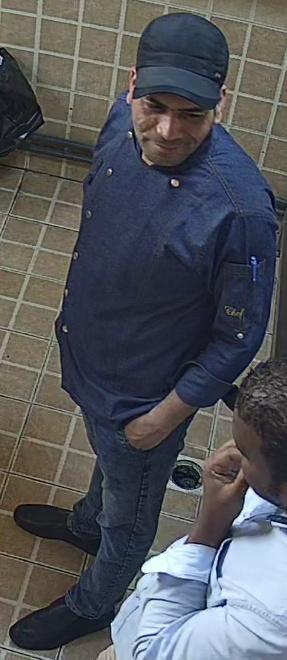no_apron: (49, 97, 275, 414)
